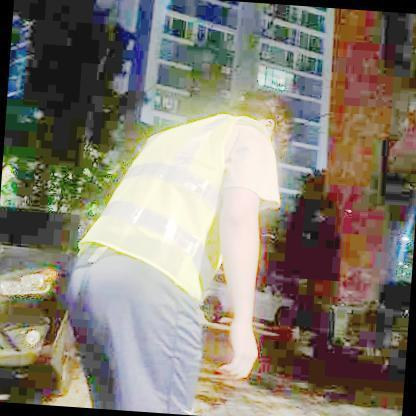vest: (73, 103, 274, 307)
